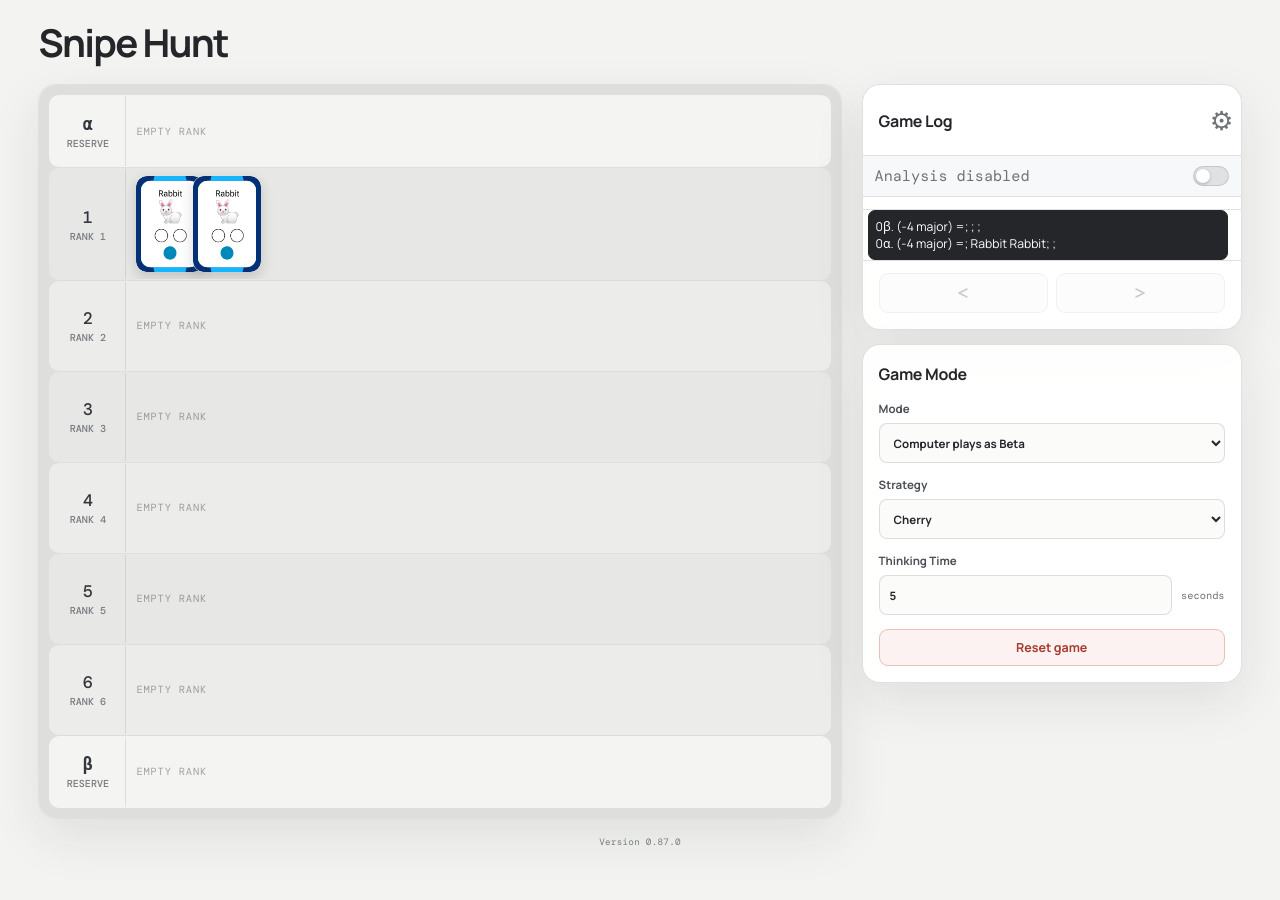
overlays › closes Game Log settings on outside interaction and Escape
Click the button named "Game Log settings" at (1222,120), box [1203,101,1241,139]
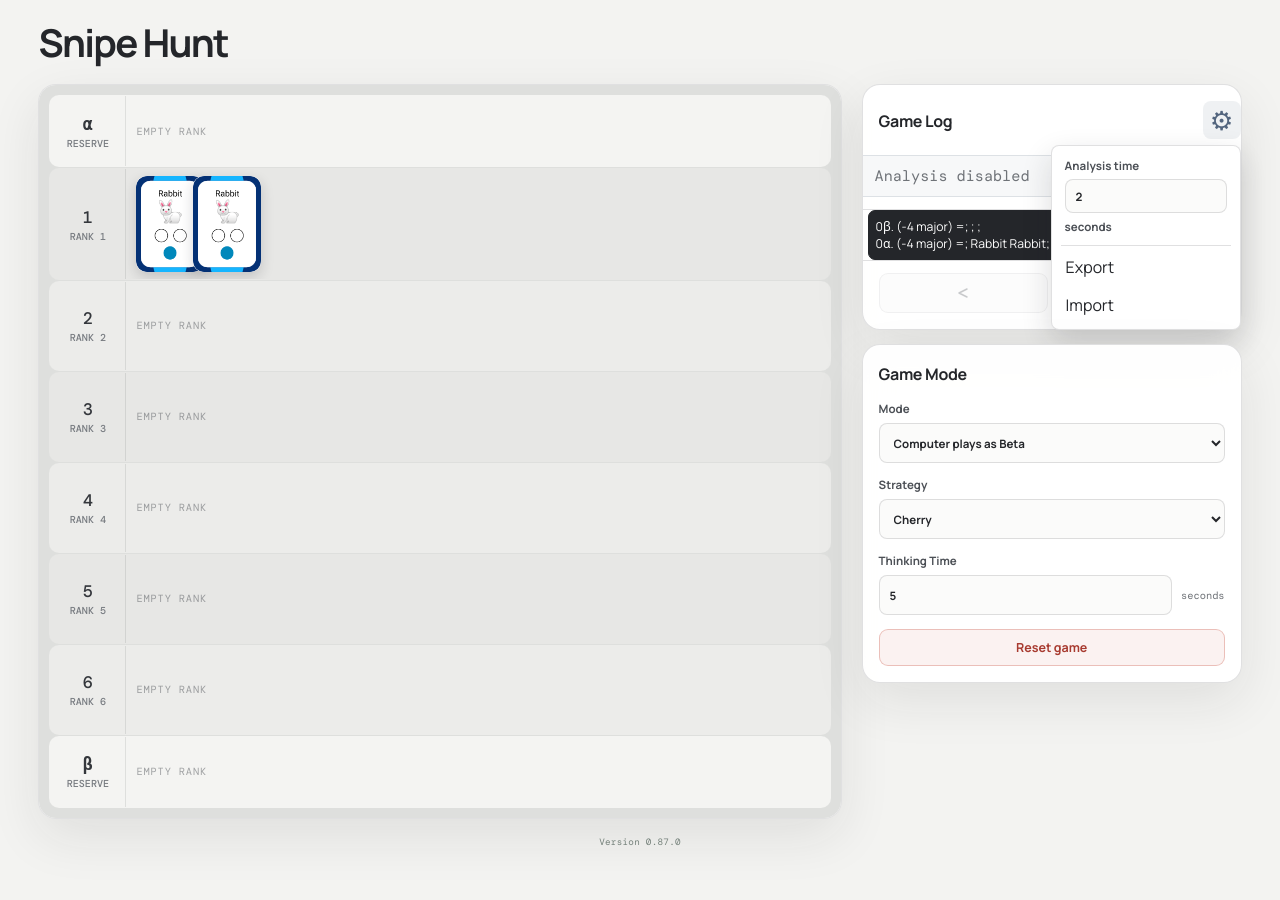
Check: the button "Export" is shown, box [1057,248,1235,286]
Press the mouse on the element that starts with "Snipe Hunt" at (640,450), box [0,0,1279,899]
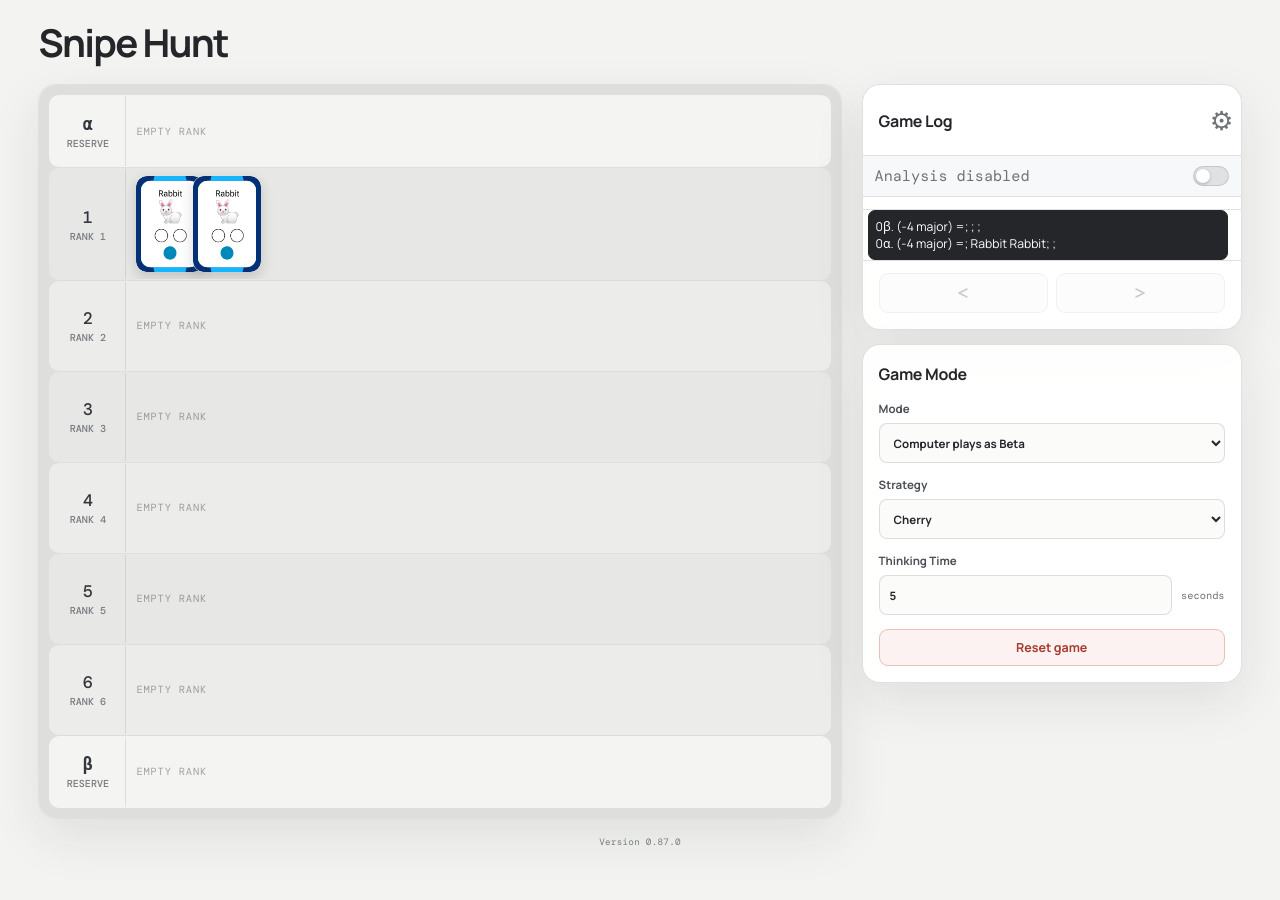
Check: the button "Export" is gone
Click the button named "Game Log settings" at (1222,120), box [1203,101,1241,139]
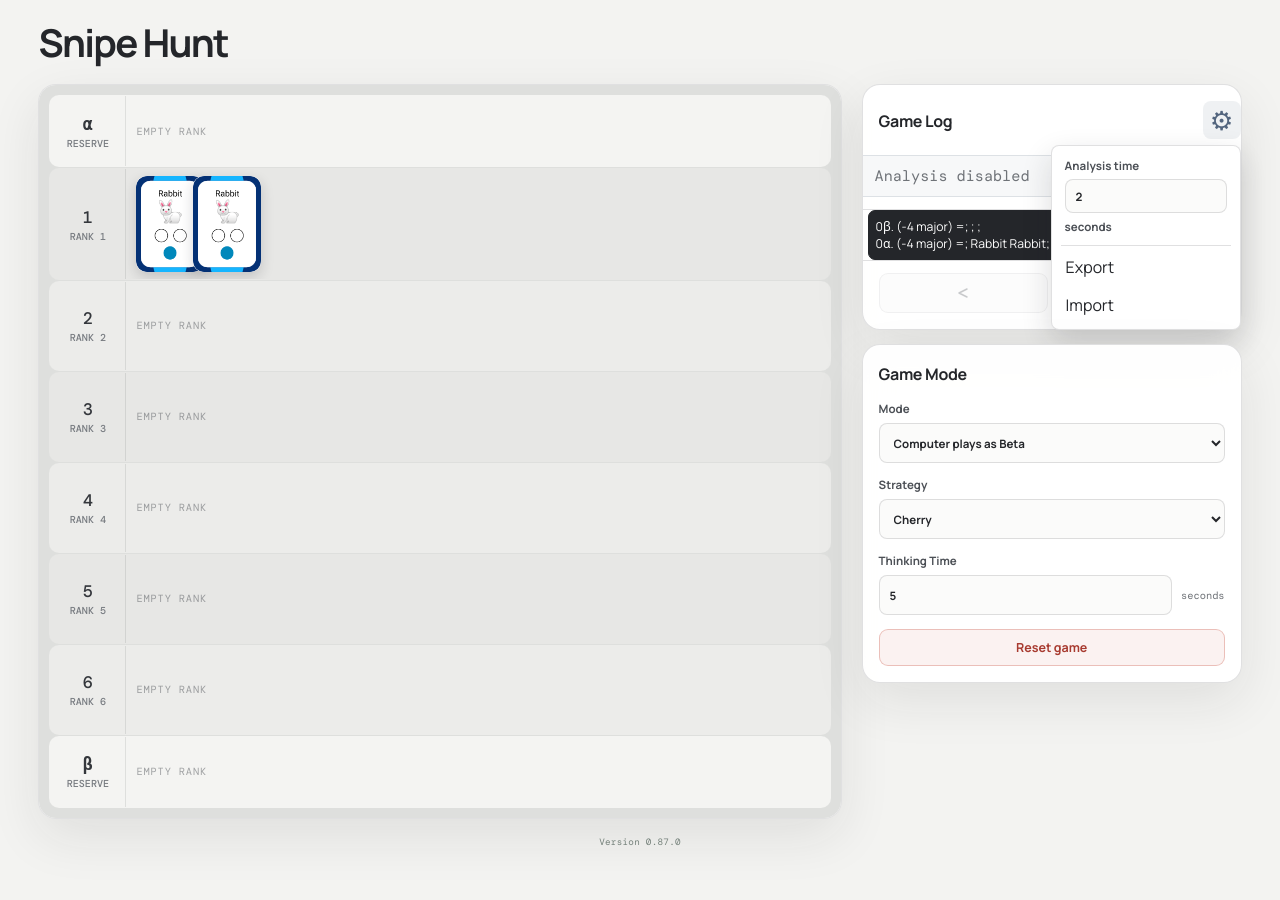
Press Escape
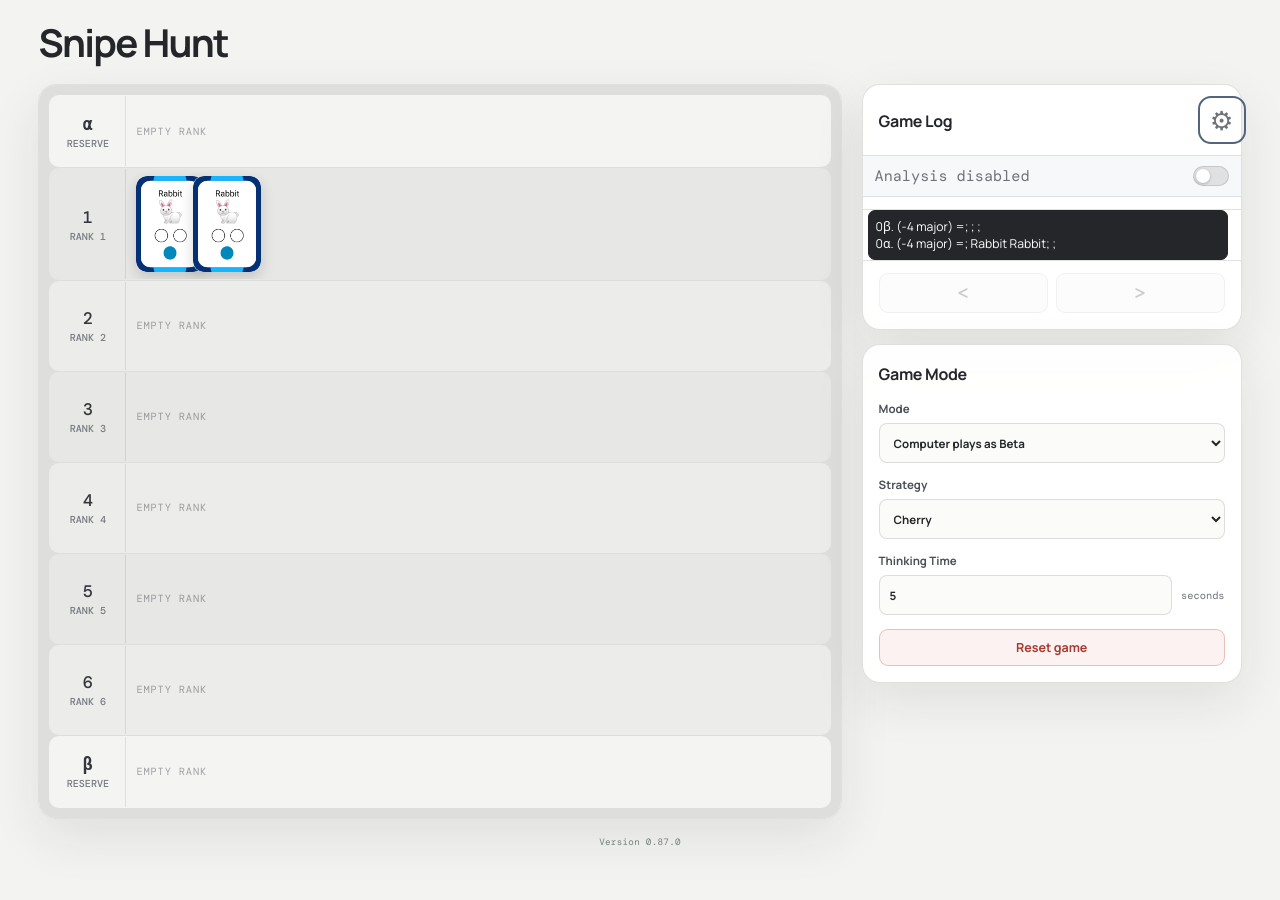
Check: the button "Export" is gone
